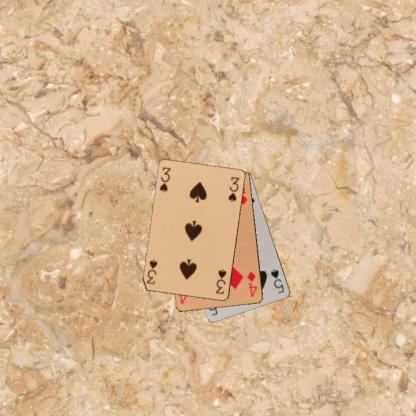3s: (213, 266, 228, 296), (157, 165, 172, 194)
4d: (245, 269, 258, 298)
5s: (268, 267, 286, 295)
